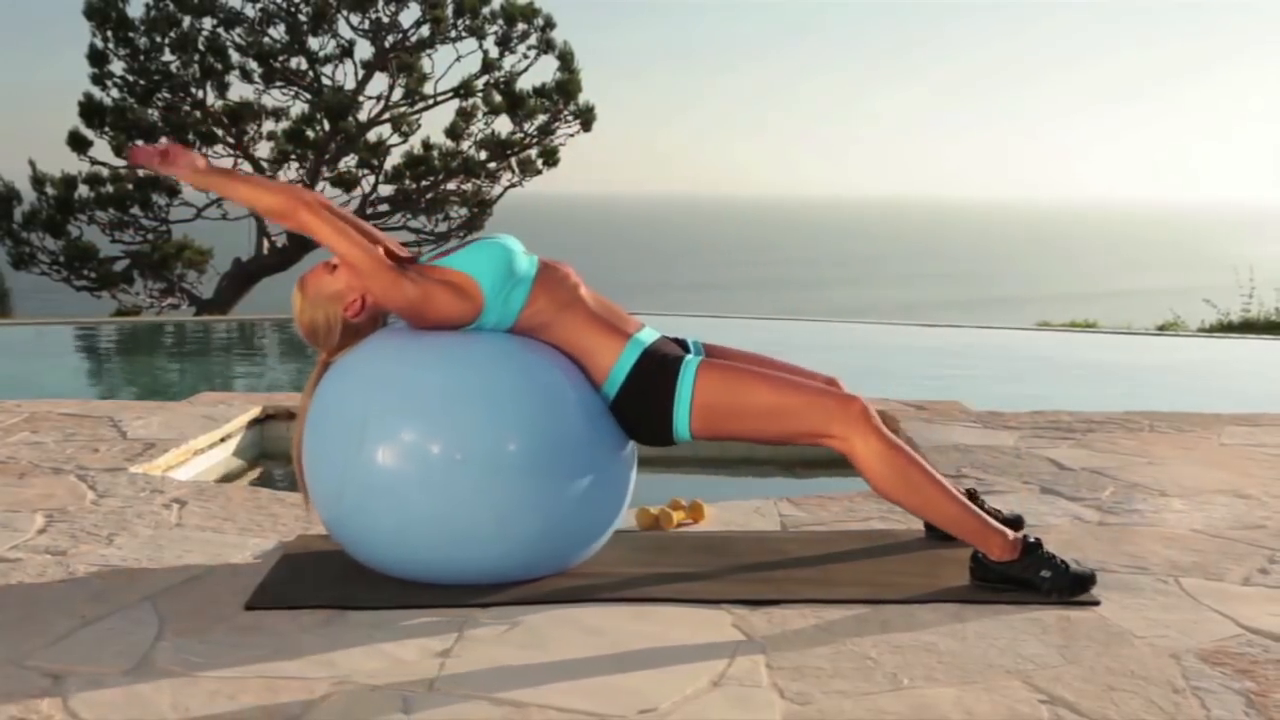yogaball: (292, 322, 643, 591)
